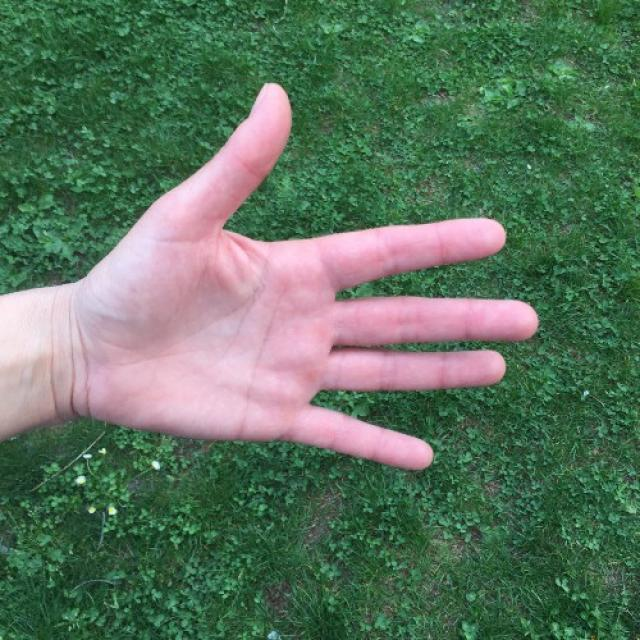paper: (107, 82, 536, 470)
